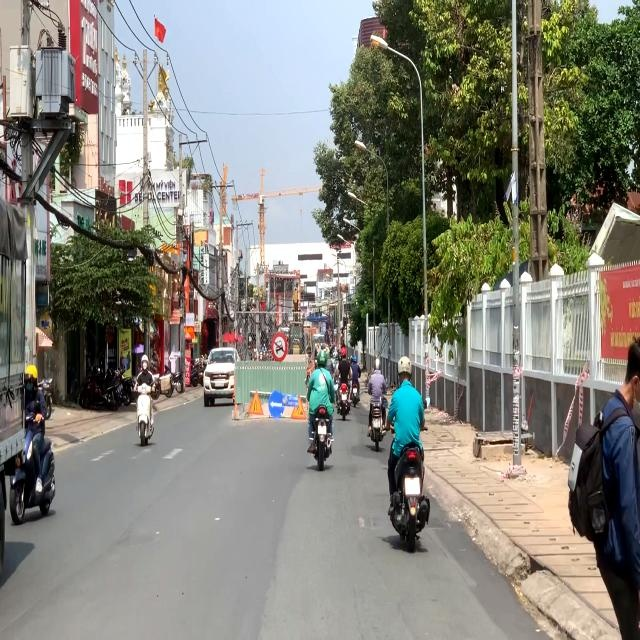bien_chi_dan: (271, 332, 288, 362), (268, 391, 285, 419), (248, 390, 264, 416), (291, 395, 306, 419)
